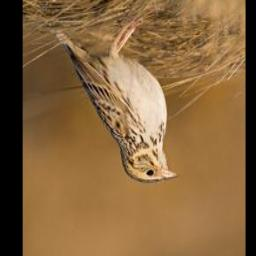Sparrow: (53, 19, 180, 185)
